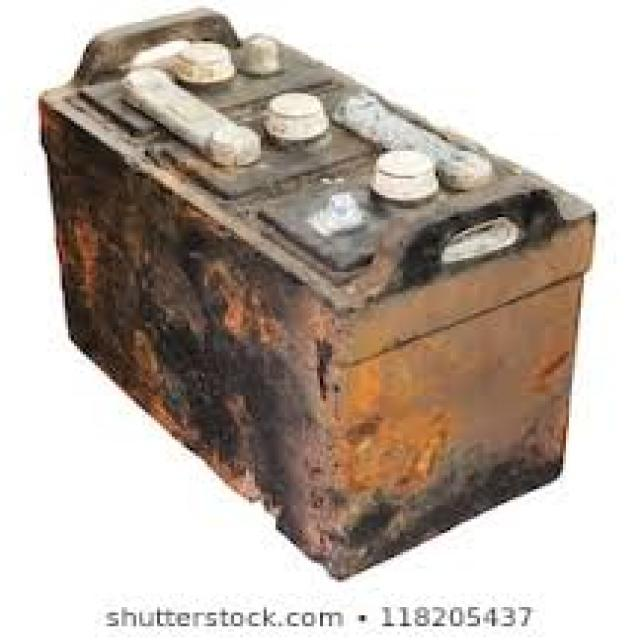hazard: (27, 0, 591, 577)
